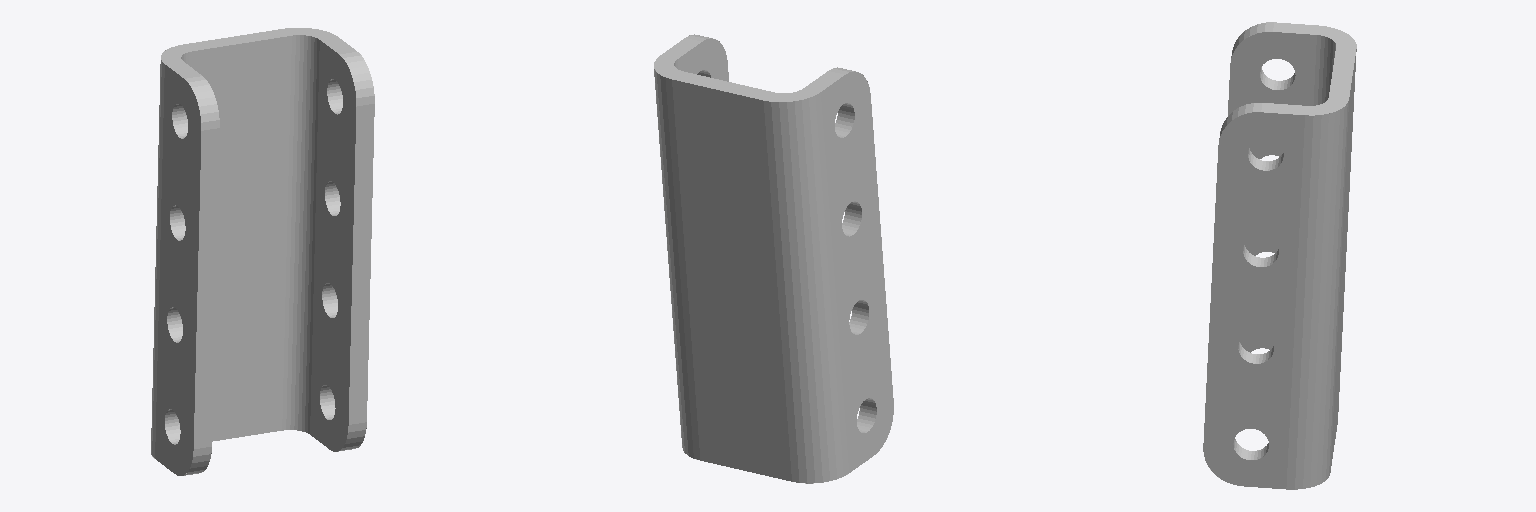
Rendered from tHM80.obj.
3 views of the same model, side by side, from view 1: azimuth 30°, elevation 25°; view 2: azimuth 150°, elevation 25°; view 3: azimuth 270°, elevation 25° (orthographic).
Visible parts, largest first — view 1: HM80_DC_Brep; view 2: HM80_DC_Brep; view 3: HM80_DC_Brep.
Part boxes in pixels (left/top/right/bottom): HM80_DC_Brep: left=151, top=28, right=374, bottom=475; HM80_DC_Brep: left=654, top=34, right=893, bottom=483; HM80_DC_Brep: left=1203, top=22, right=1356, bottom=489.
Bounding box in the file's own units: 4 × 7.96 × 2.8.